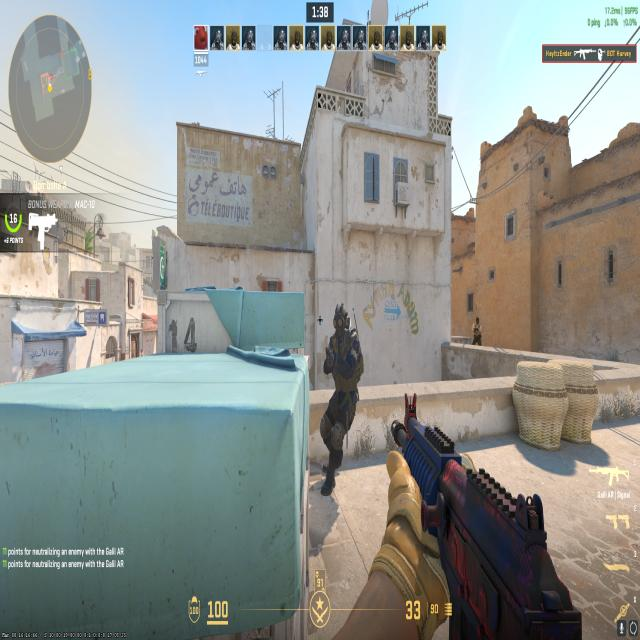ct: (308, 290, 372, 504)
t: (468, 312, 488, 349)
